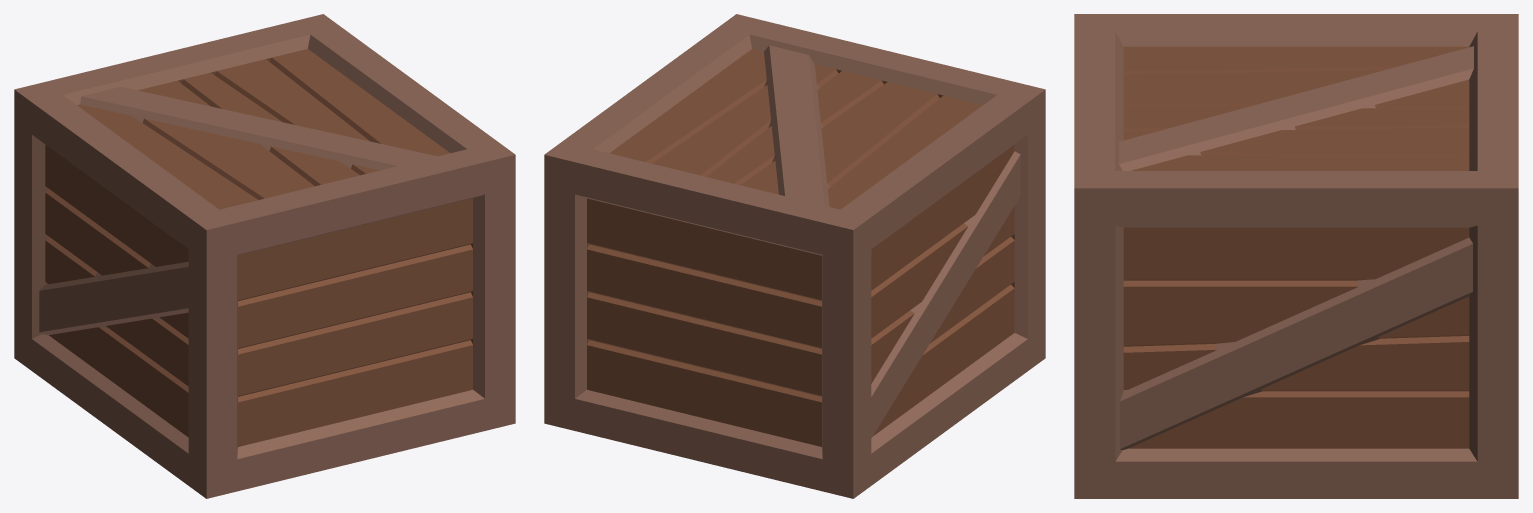
File: LPWarPack_StorageCrate2.fbx
3 views of the same model, side by side, from view 1: azimuth 30°, elevation 25°; view 2: azimuth 150°, elevation 25°; view 3: azimuth 270°, elevation 25° (orthographic). The views are drawn at different scales.
Parts seen in each view (by area): view 1: StorageCrate2; view 2: StorageCrate2; view 3: StorageCrate2.
Boxes of the visible parts, x1,y1,x2,y2 form: StorageCrate2: [14, 14, 515, 498]; StorageCrate2: [544, 14, 1045, 498]; StorageCrate2: [1074, 14, 1518, 498].
Size of the model in its own units: 84.48 by 70.17 by 90.97.
